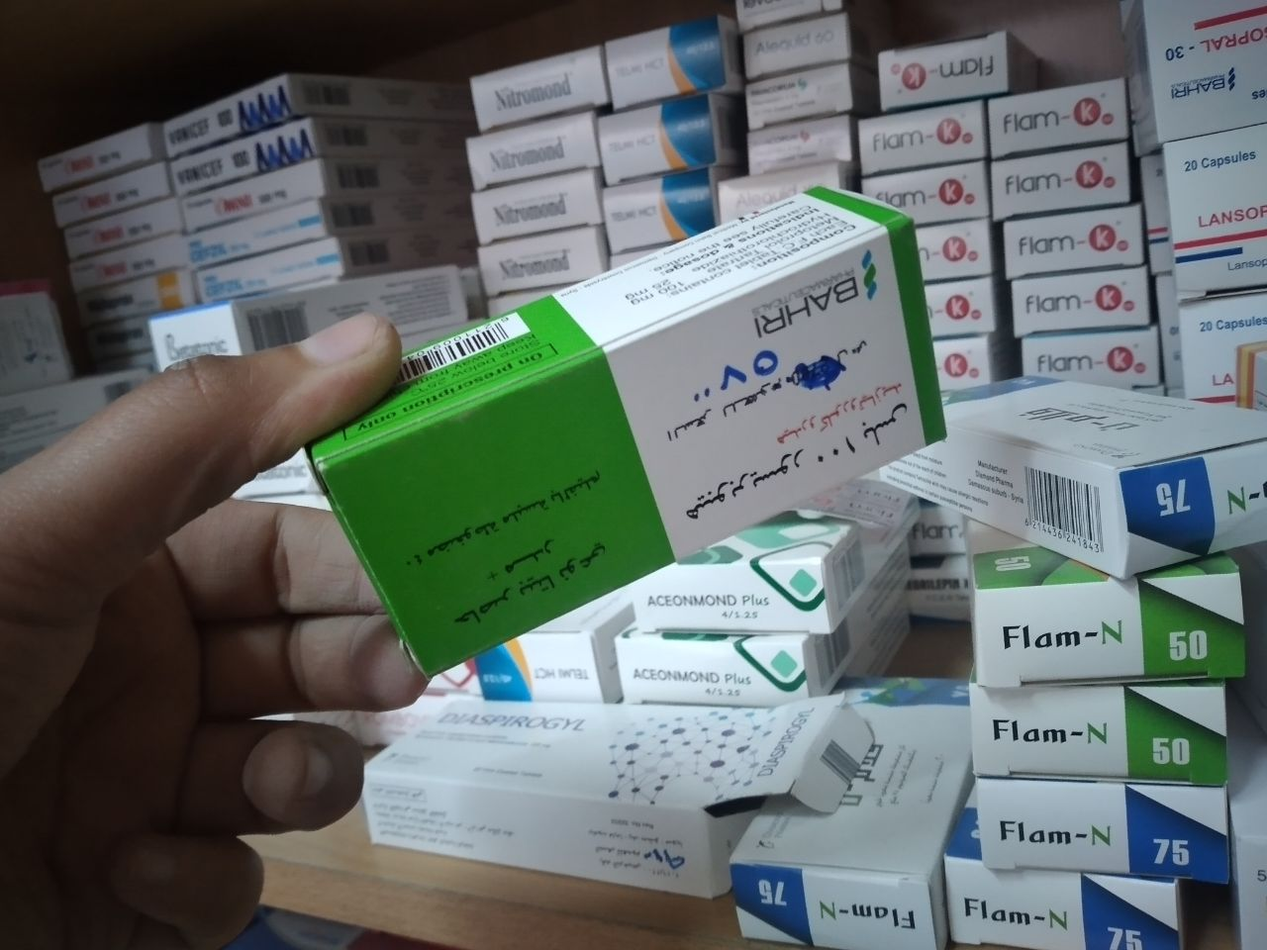Medicine: (297, 188, 968, 688), (928, 361, 1267, 584), (728, 665, 992, 950), (356, 708, 770, 883), (963, 532, 1262, 705), (973, 683, 1232, 802), (977, 787, 1250, 893), (158, 116, 450, 203), (938, 868, 1190, 950), (166, 67, 458, 129), (987, 131, 1141, 238), (1136, 7, 1267, 129), (1161, 119, 1267, 265), (1005, 205, 1151, 297), (463, 45, 616, 119), (1017, 265, 1153, 346), (1166, 287, 1262, 393), (992, 82, 1143, 148), (854, 106, 992, 176), (601, 37, 732, 109), (37, 109, 161, 183), (1012, 336, 1185, 388), (874, 45, 1005, 109), (468, 124, 604, 173)
